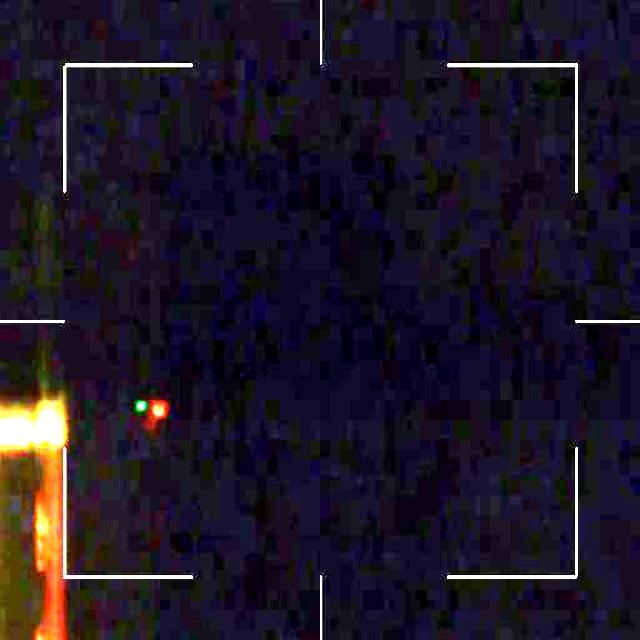bird: (132, 392, 166, 436)
